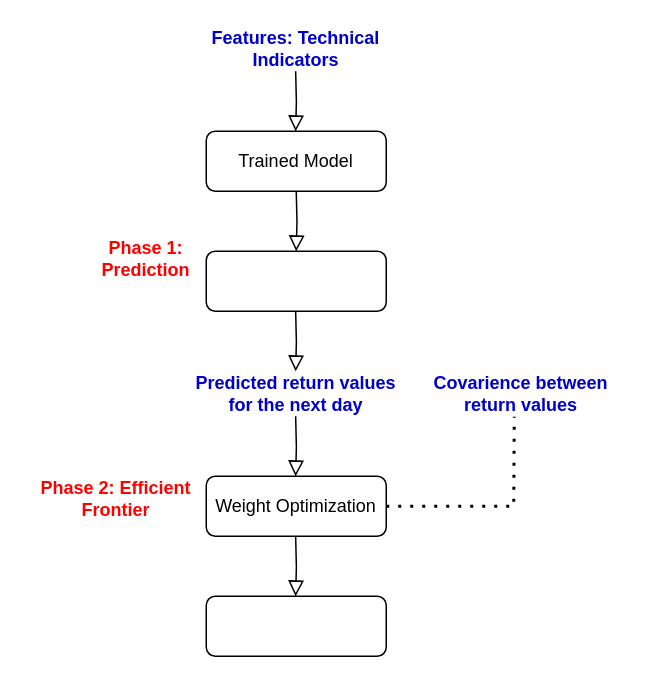
Some shapes in this 659 by 683 pixel diagram are drawn without their labels. Each missing label, with the centre of its shape:
"Optimal Portfolio Allocation" belongs at (x=295, y=625).
"Prediction" belongs at (x=295, y=280).
